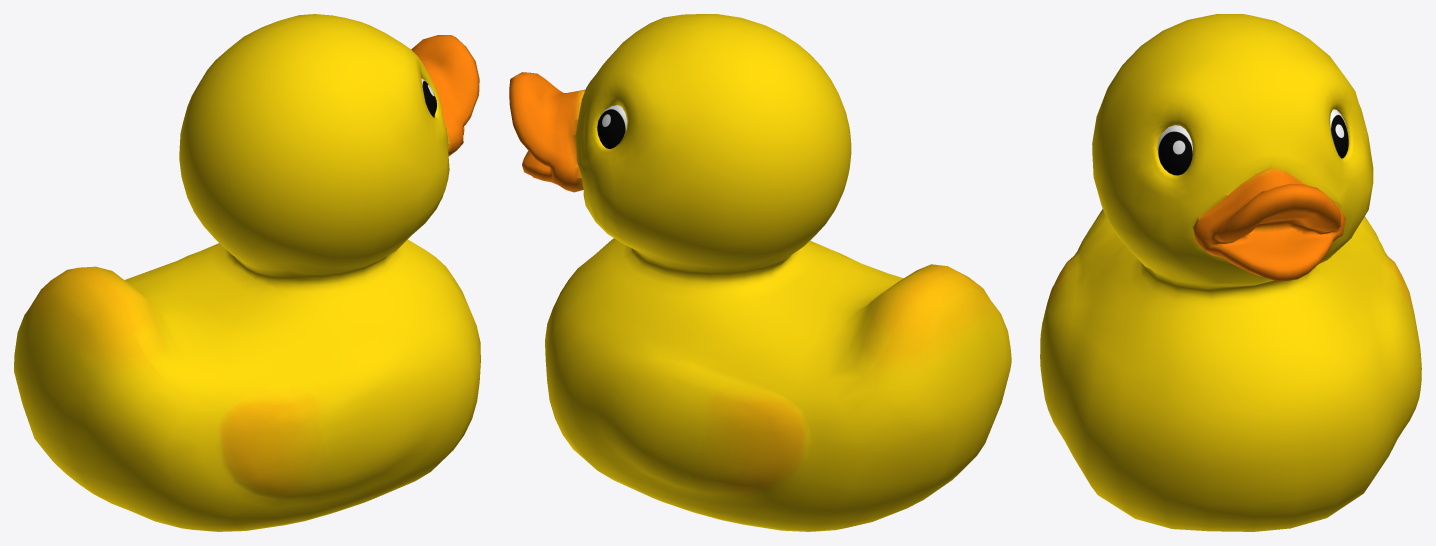
3 views of the same model, side by side, from view 1: azimuth 30°, elevation 25°; view 2: azimuth 150°, elevation 25°; view 3: azimuth 270°, elevation 25° (orthographic). The views are drawn at different scales.
Parts seen in each view (by area): view 1: Rigidbody; view 2: Rigidbody; view 3: Rigidbody.
Boxes of the visible parts, <box> form: Rigidbody: <box>14,14,480,531</box>; Rigidbody: <box>509,14,1011,531</box>; Rigidbody: <box>1040,14,1421,531</box>.
Size of what is drawn, in the model's own units: 1.65 by 1.54 by 1.15.
1 material, 1 textured.
